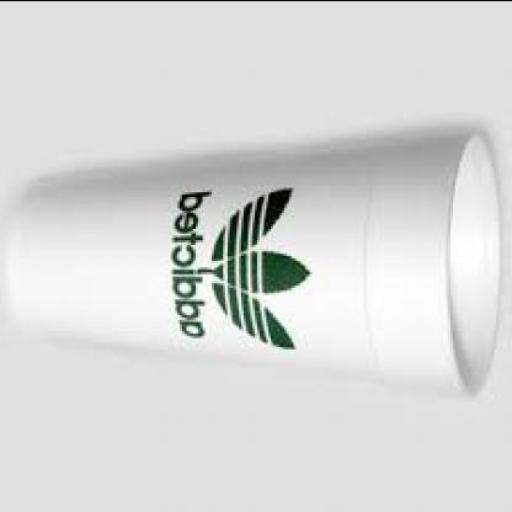paper: (2, 132, 503, 398)
